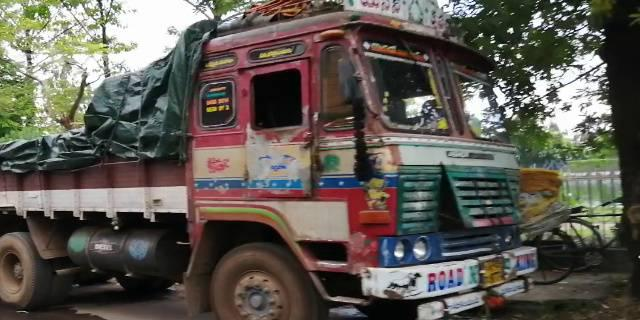Truck: (13, 25, 530, 312)
